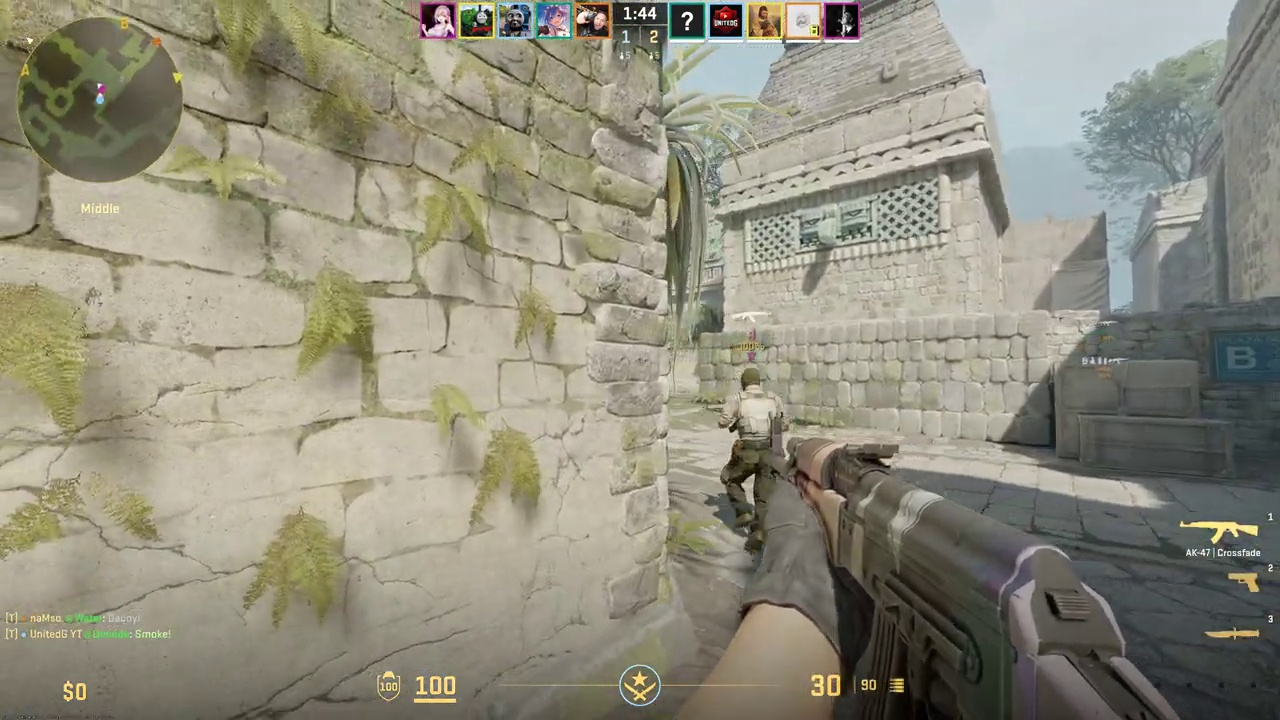Terrorist: (718, 368, 789, 552)
